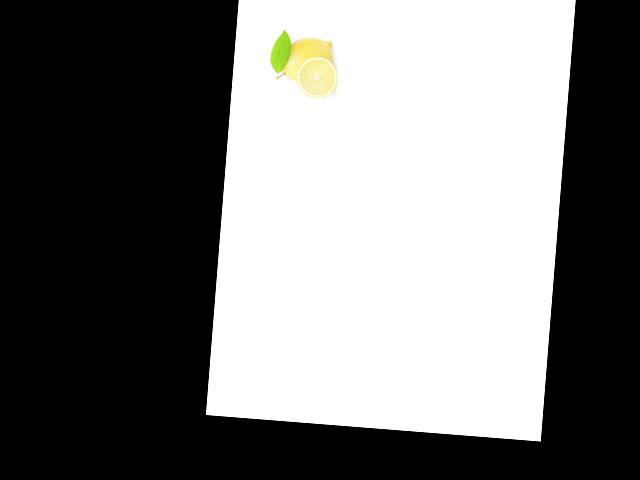lemon: (274, 29, 338, 87)
